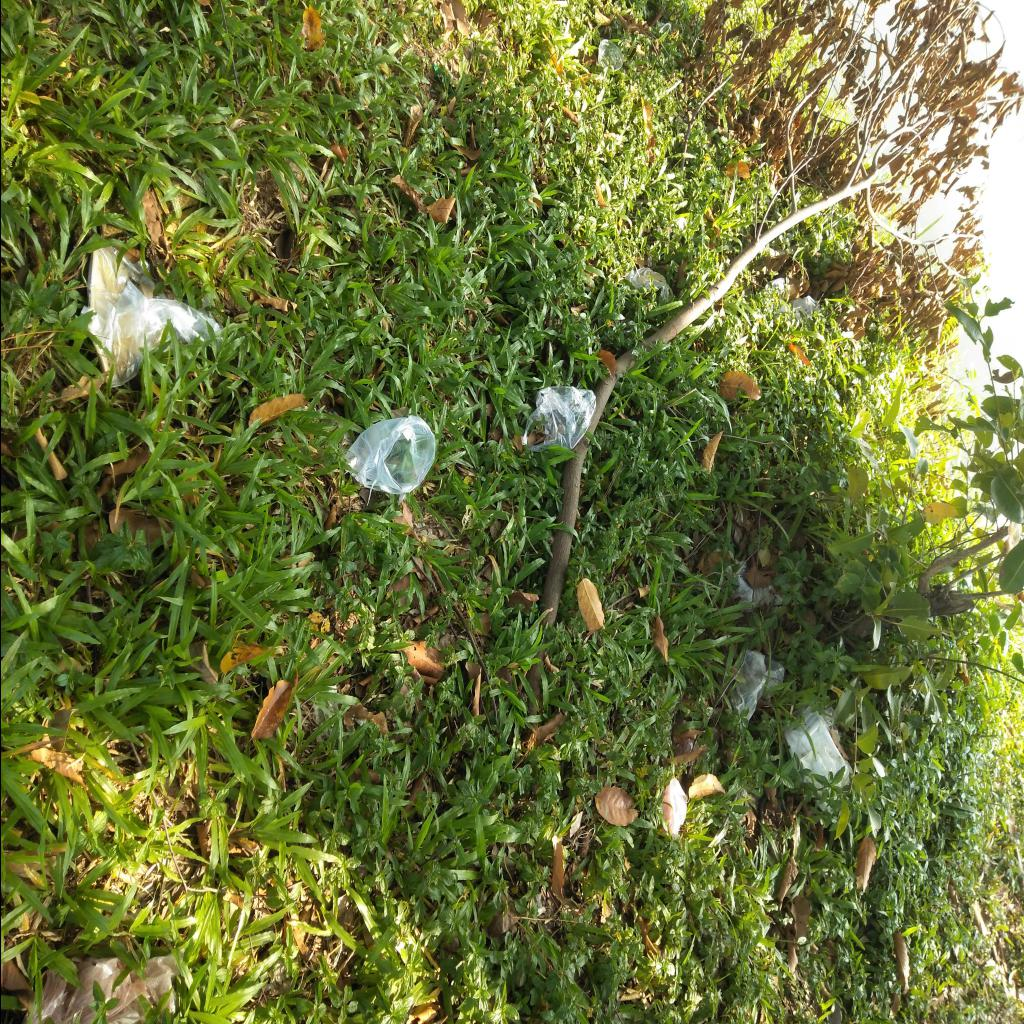Other plastic wrapper: (657, 22, 671, 35)
Plastic film: (78, 248, 222, 388), (40, 953, 180, 1022), (346, 416, 434, 494), (782, 704, 852, 786), (521, 386, 595, 452), (730, 651, 784, 722), (730, 557, 782, 609), (769, 280, 819, 332), (622, 268, 672, 305), (662, 775, 686, 839)
Plastic lid: (596, 39, 622, 71)
